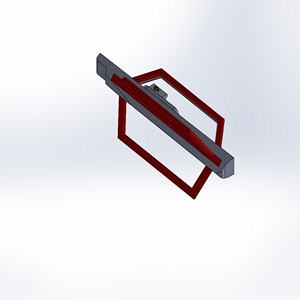submarine: (77, 34, 257, 216)
